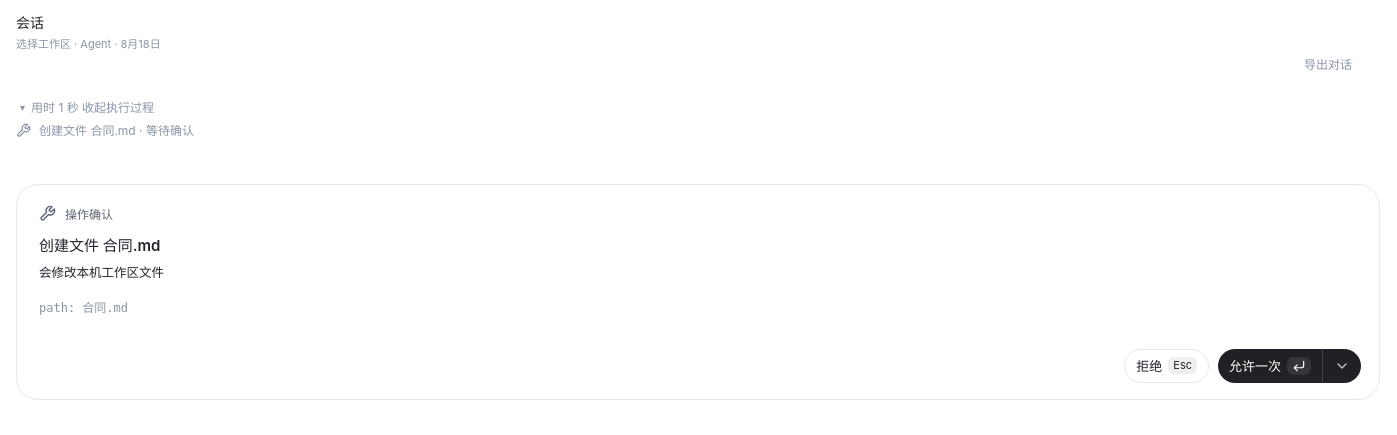
Test case: workspace maps internal_error approval failures to stable Chinese guidance
This screenshot has width=1397, height=435.
What coordinates should you click on to do the following:
click the button "允许一次"
I would click on:
 (1270, 366)
Its box is [1218,349,1322,383].
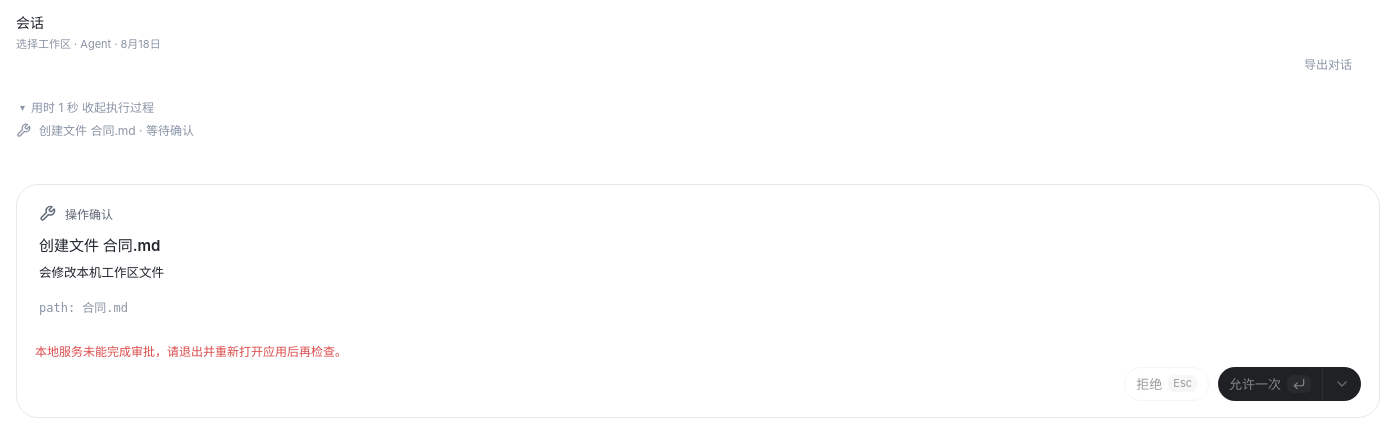
Expected: the message reads "本地服务未能完成审批，请退出并重新打开应用后再检查。", [35,344,347,359]
Expected: the button "允许一次" is disabled, [1218,367,1322,401]
